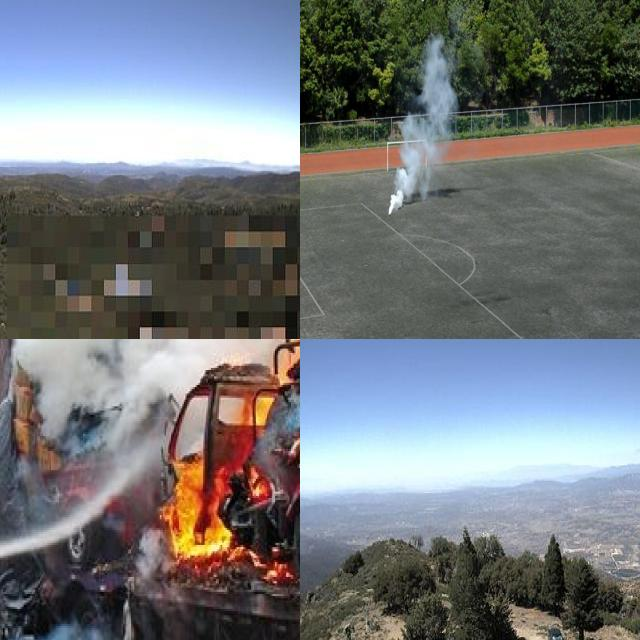fire: (161, 339, 300, 602)
smoke: (9, 339, 300, 444), (389, 35, 457, 212)
